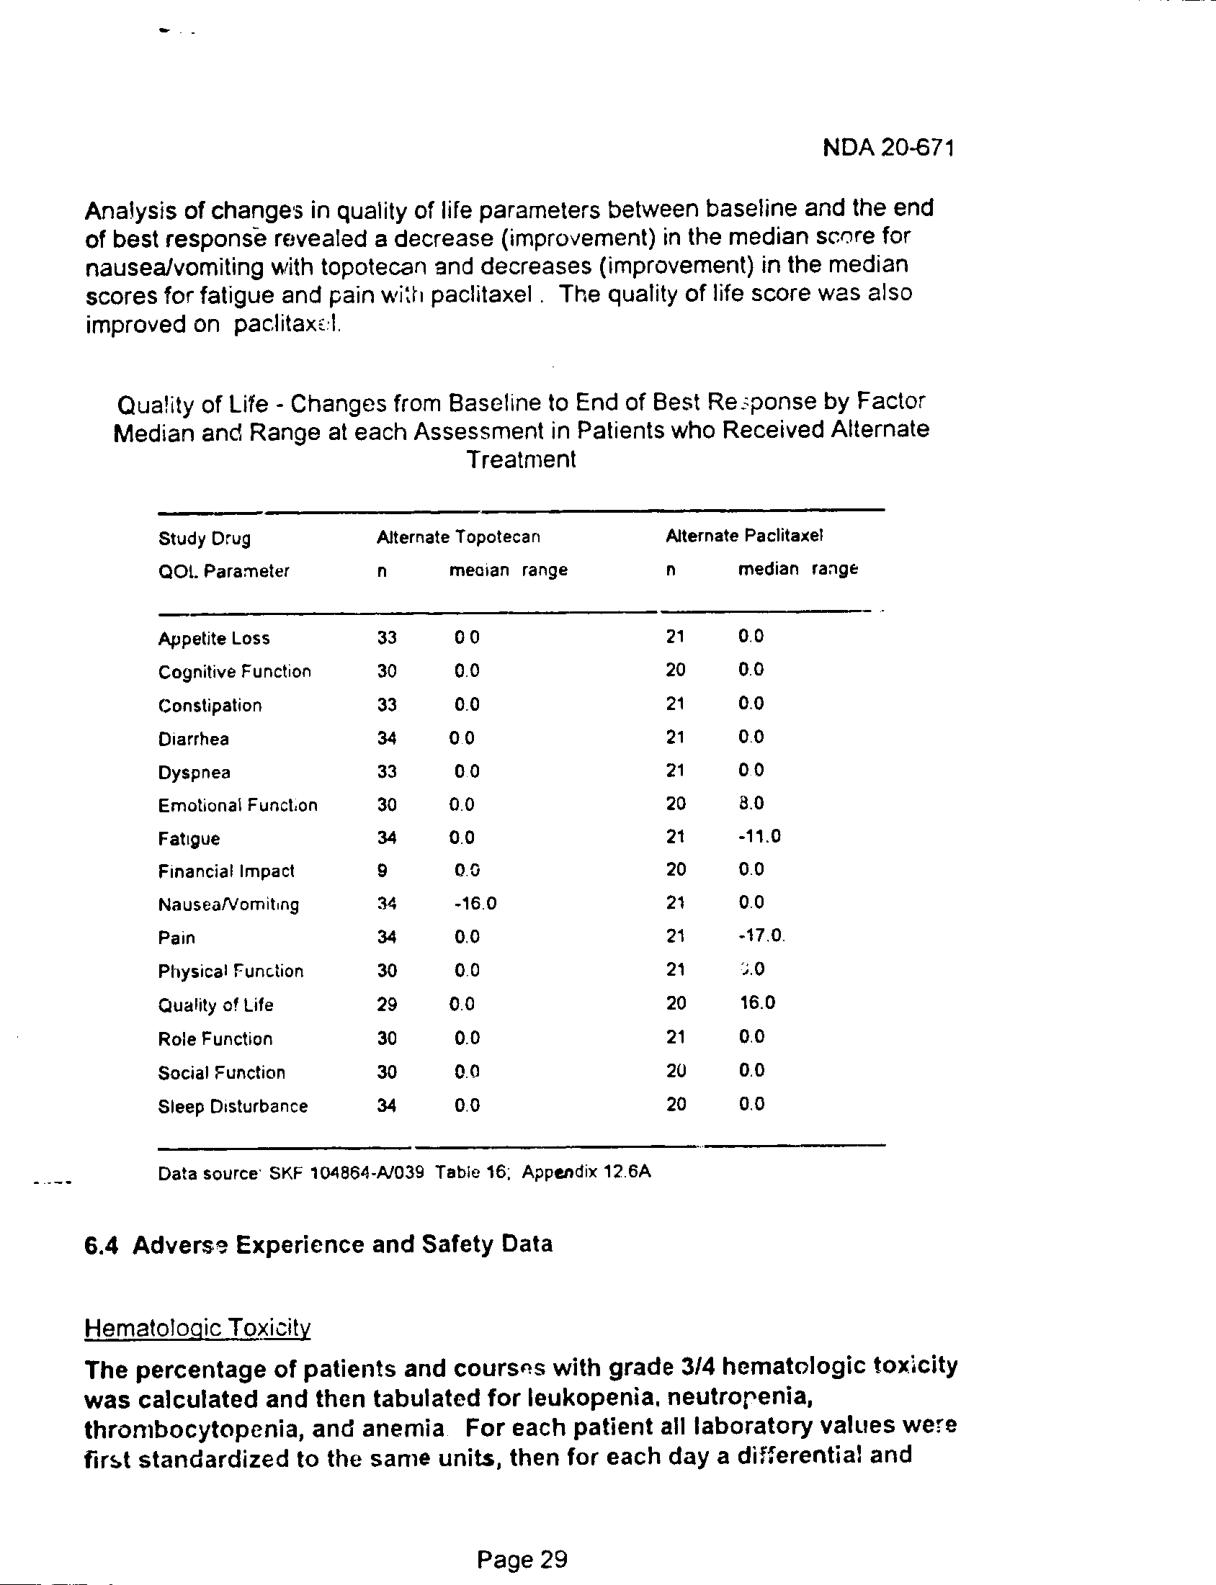partial_lined_merged_cells: (156, 510, 886, 1151)
